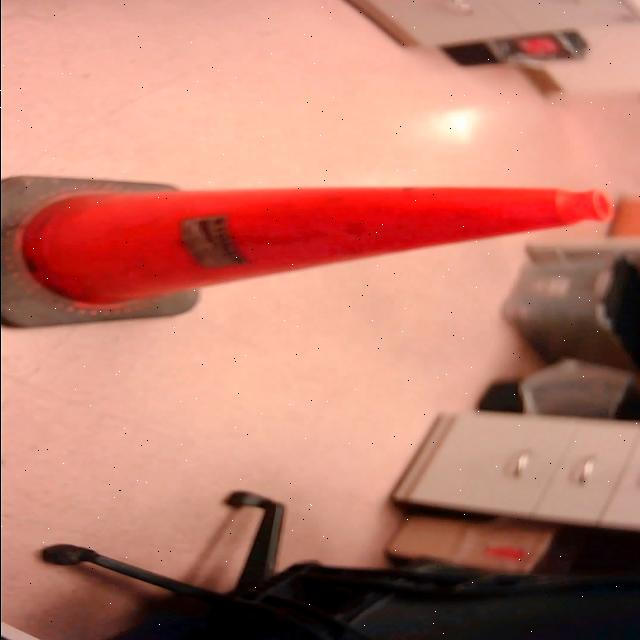traffic cone: (1, 172, 624, 334)
